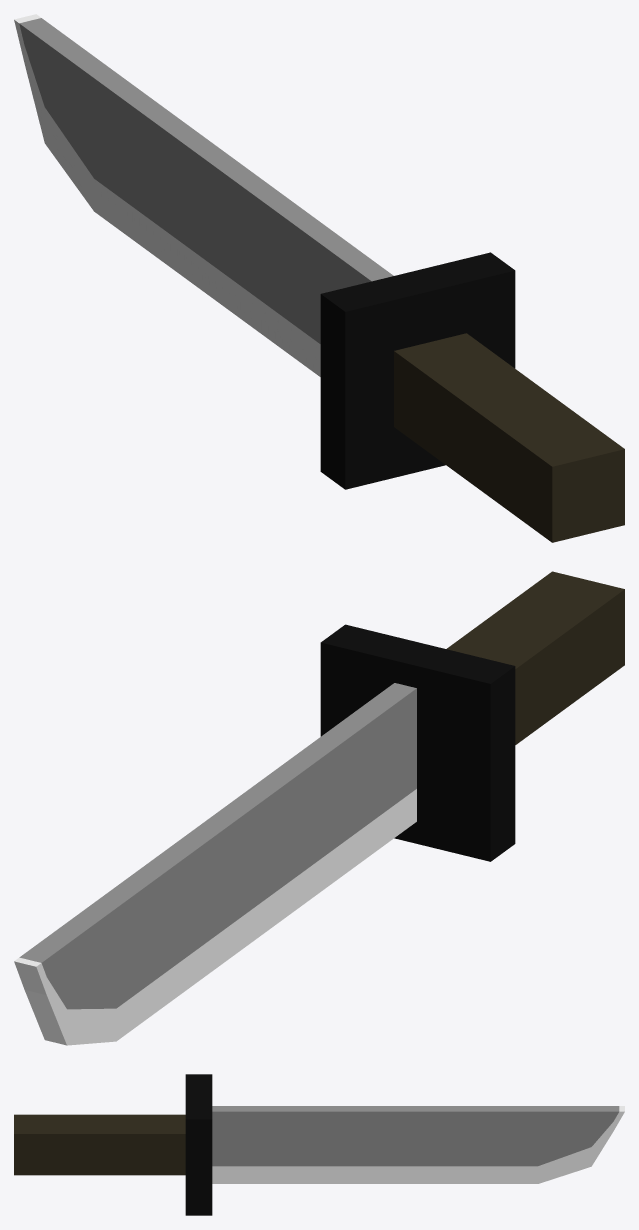
The model's file is Knife.fbx.
The picture shows the model from 3 angles, top to bottom: view 1: azimuth 30°, elevation 25°; view 2: azimuth 150°, elevation 25°; view 3: azimuth 270°, elevation 25°; orthographic projection. The views are drawn at different scales.
Parts seen in each view (by area): view 1: Cube, Cube.001, Cube.002, Cube.003; view 2: Cube, Cube.002, Cube.001, Cube.003; view 3: Cube, Cube.001, Cube.003, Cube.002.
Boxes of the visible parts, left/top/right/bottom form: Cube: left=19, top=18, right=393, bottom=343; Cube.001: left=394, top=333, right=624, bottom=542; Cube.002: left=320, top=252, right=515, bottom=489; Cube.003: left=14, top=14, right=320, bottom=376; Cube: left=19, top=683, right=416, bottom=1009; Cube.002: left=320, top=624, right=515, bottom=861; Cube.001: left=446, top=571, right=624, bottom=744; Cube.003: left=14, top=789, right=416, bottom=1045; Cube: left=212, top=1106, right=619, bottom=1166; Cube.001: left=14, top=1114, right=185, bottom=1175; Cube.003: left=212, top=1106, right=624, bottom=1183; Cube.002: left=185, top=1074, right=212, bottom=1215.
Size of the model in its own units: 1.92 by 11.04 by 1.92.
